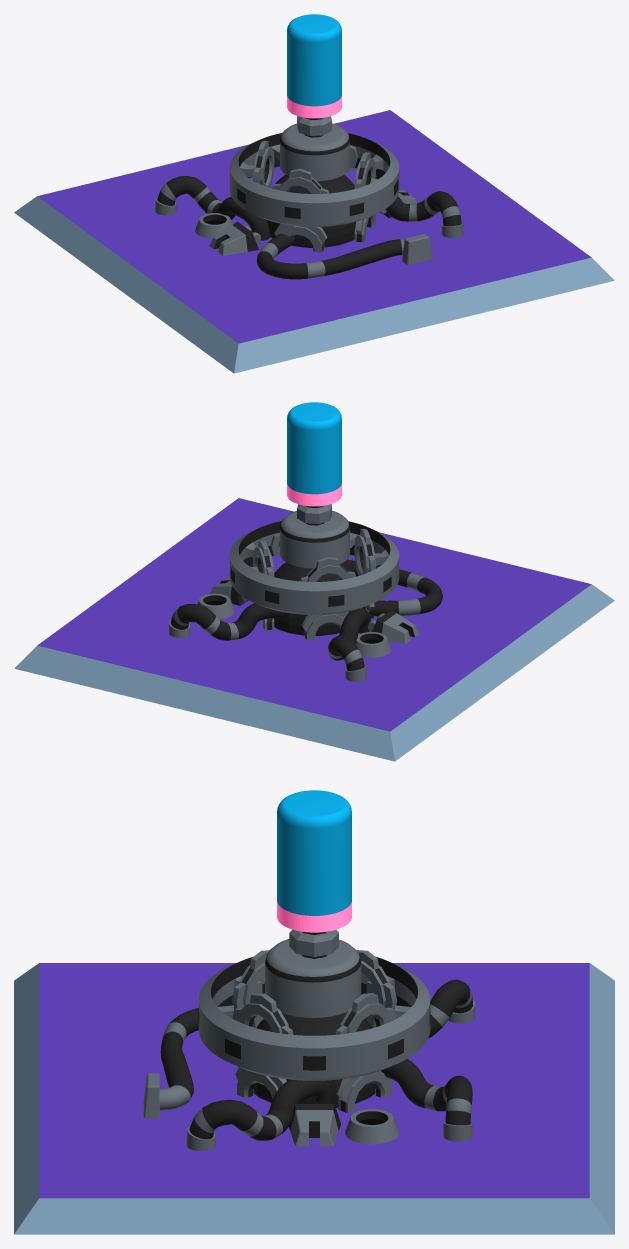
File: 74_Haarvester_ALPHA1.fbx
3 views of the same model, one above another, from view 1: azimuth 30°, elevation 25°; view 2: azimuth 150°, elevation 25°; view 3: azimuth 270°, elevation 25° (orthographic). The views are drawn at different scales.
Parts seen in each view (by area): view 1: foundation_harvester1, pPipe5, pCylinder65, pCylinder69, pCylinder76, pCylinder83, pPipe8 (×3), pCylinder77, pSphere24, polySurface40, pCube110, pPipe13 (+2 smaller); view 2: foundation_harvester1, pPipe5, pCylinder65, pCylinder69, pCylinder82, pPipe8 (×3), pCylinder76, pCylinder83, pSphere24, polySurface40, pPipe16, pPipe13 (+2 smaller); view 3: foundation_harvester1, pPipe5, pCylinder65, pCylinder69, pPipe8 (×4), pCylinder77, pCylinder82, pCylinder76, pSphere24, pPipe13 (×2), polySurface40, pCylinder83 (+3 smaller).
Boxes of the visible parts, x1,y1,x2,y2 form: foundation_harvester1: (14, 110, 614, 373); pPipe5: (229, 133, 399, 226); pCylinder65: (287, 14, 341, 118); pCylinder69: (280, 123, 349, 181); pCylinder76: (257, 233, 404, 279); pCylinder83: (155, 176, 270, 240); pPipe8 (×3): (253, 140, 375, 193); pCylinder77: (385, 191, 463, 238); pSphere24: (267, 175, 355, 247); polySurface40: (209, 221, 258, 255); pCube110: (402, 234, 432, 264); pPipe13: (274, 223, 327, 252); foundation_harvester1: (14, 498, 614, 761); pPipe5: (229, 521, 399, 614); pCylinder65: (287, 402, 341, 506); pCylinder69: (280, 510, 349, 568); pCylinder82: (169, 603, 284, 640); pPipe8 (×3): (253, 528, 375, 581); pCylinder76: (343, 559, 442, 616); pCylinder83: (328, 607, 370, 681); pSphere24: (274, 562, 364, 635); polySurface40: (372, 609, 419, 643); pPipe16: (355, 632, 391, 657); pPipe13: (301, 611, 348, 640); foundation_harvester1: (14, 963, 614, 1234); pPipe5: (198, 957, 430, 1080); pCylinder65: (277, 790, 351, 932); pCylinder69: (265, 939, 361, 1017); pPipe8 (×4): (231, 950, 397, 1034); pCylinder77: (186, 1079, 330, 1151); pCylinder82: (381, 1059, 472, 1141); pCylinder76: (159, 1008, 198, 1110); pSphere24: (253, 1011, 375, 1107); pPipe13 (×2): (235, 1067, 391, 1113); polySurface40: (288, 1104, 340, 1146); pCylinder83: (428, 979, 475, 1037).
Size of the model in its own units: 78.74 by 47.35 by 78.76.
